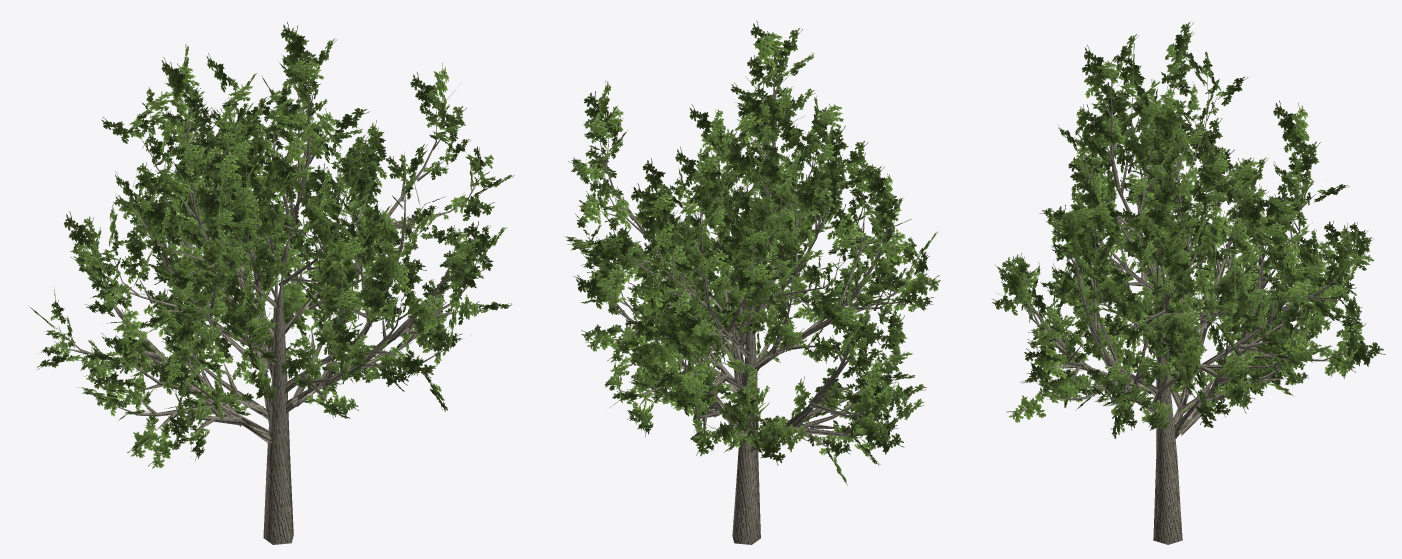
File: oak-large-lod2-20m.glb
3 renders of one model, left to right at view 1: azimuth 30°, elevation 25°; view 2: azimuth 150°, elevation 25°; view 3: azimuth 270°, elevation 25°, orthographic. The views are drawn at different scales.
Visible parts, largest first — view 1: Oak Large LOD2 (scaled to 20m); view 2: Oak Large LOD2 (scaled to 20m); view 3: Oak Large LOD2 (scaled to 20m).
Part boxes in pixels (x1,y1,x2,y2): Oak Large LOD2 (scaled to 20m): (30, 22, 514, 544); Oak Large LOD2 (scaled to 20m): (565, 21, 940, 544); Oak Large LOD2 (scaled to 20m): (992, 21, 1385, 544).
Size of the model in its own units: 16.62 by 19.93 by 14.79.
Materials: 2 (2 with a texture image).
